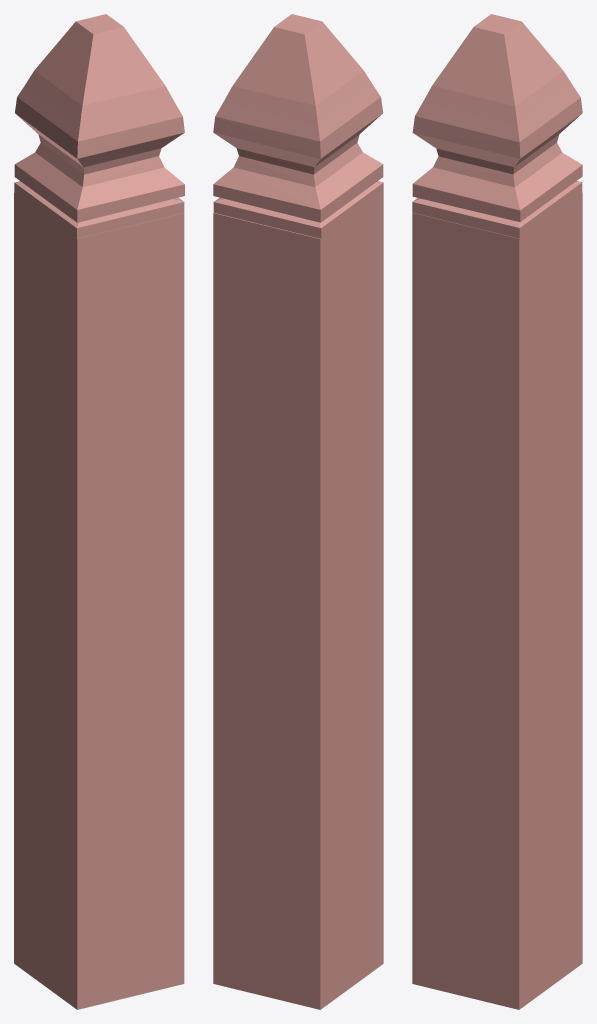
The model's file is sweethome3d-contributions-fence-post.glb.
3 views of the same model, side by side, from view 1: azimuth 30°, elevation 25°; view 2: azimuth 150°, elevation 25°; view 3: azimuth 330°, elevation 25° (orthographic).
Parts seen in each view (by area): view 1: post, tallpostcap; view 2: post, tallpostcap; view 3: post, tallpostcap.
Boxes of the visible parts, <box> form: post: <box>14,193,184,1009</box>; tallpostcap: <box>14,14,184,239</box>; post: <box>213,194,383,1009</box>; tallpostcap: <box>213,14,383,239</box>; post: <box>412,193,582,1009</box>; tallpostcap: <box>412,14,582,239</box>.
Size of the model in its own units: 0.7569 by 6.36 by 0.7684.
